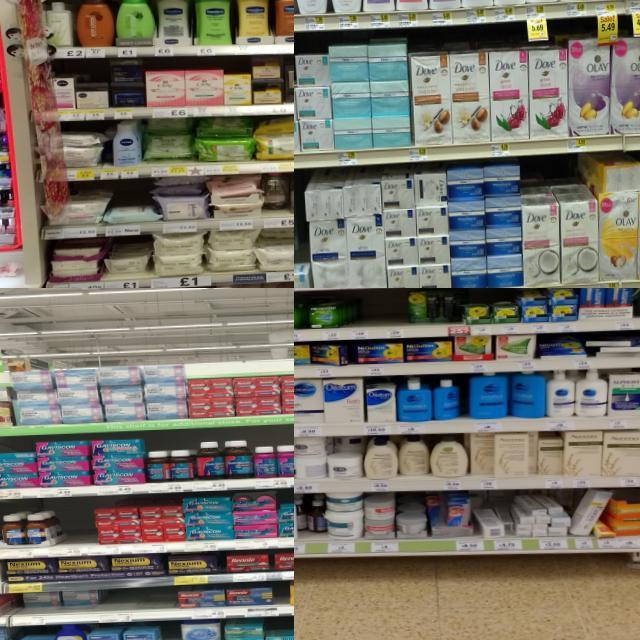Imprecise: (6, 586, 102, 612), (294, 493, 328, 541), (259, 228, 295, 272)
